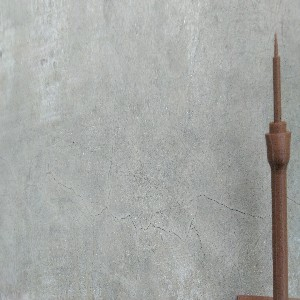solder: (263, 31, 292, 300)
